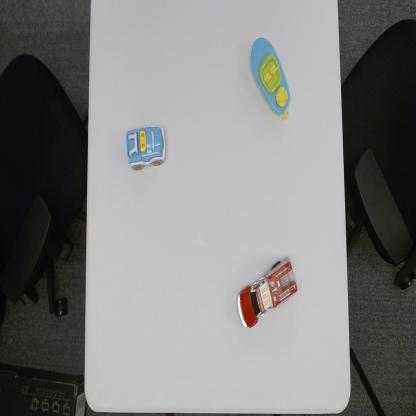Boat: (249, 36, 292, 123)
Car: (124, 124, 168, 172)
Firetruck: (235, 252, 299, 331)
